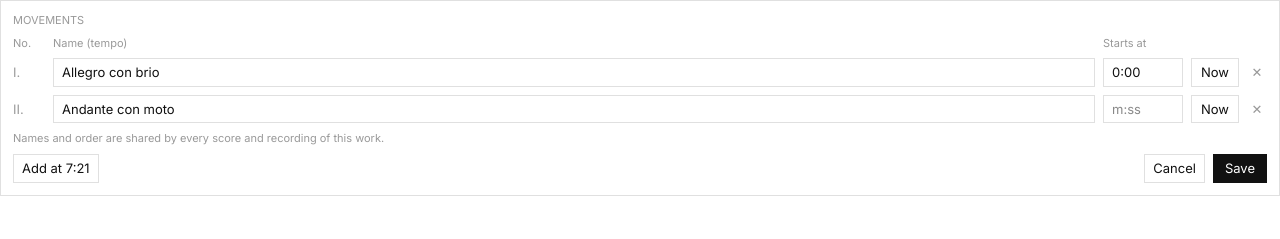
Scenario: RecordingMovementEditor (YouTube) › refuses a time it cannot read, without saving
Type "7:99" into the field named "Movement II start time" at (1143, 109), box [1103,95,1183,124]
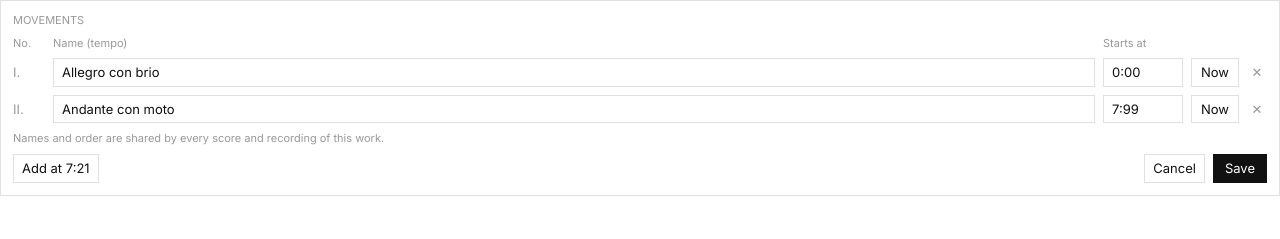
Click the button "Save" at (1240, 168), box [1213,154,1267,183]
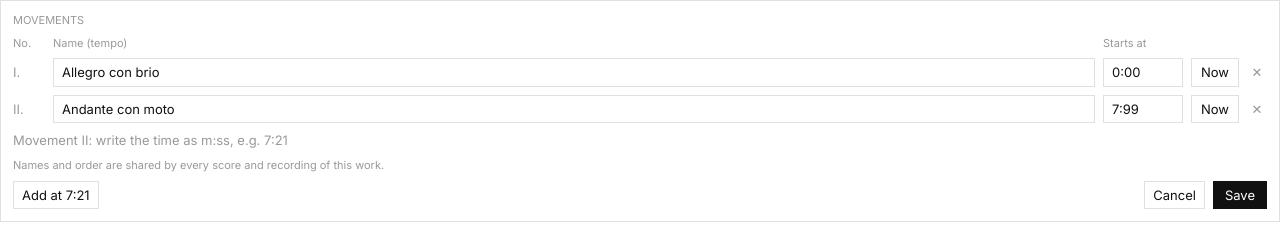
Check: the text "Movement II: write the time as m:ss, e.g. 7:21" is shown, box [13,132,288,148]
